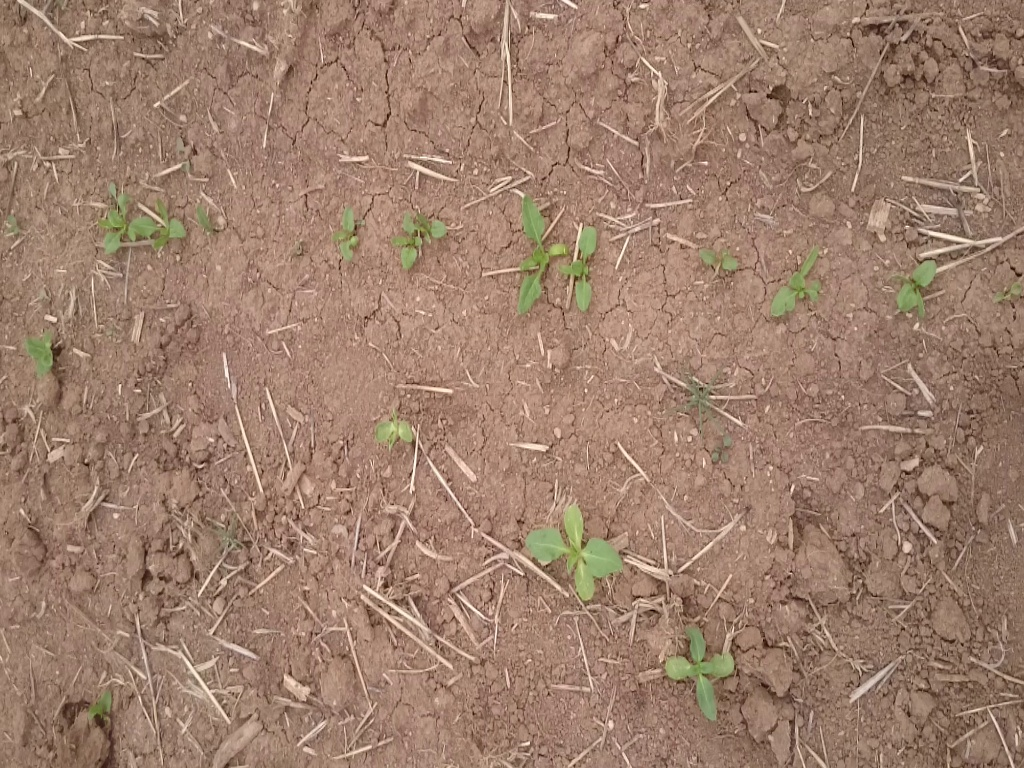sugar_beet: (392, 196, 446, 275), (765, 246, 829, 312), (568, 224, 607, 309), (893, 262, 944, 311), (335, 208, 365, 268), (141, 201, 181, 240)
